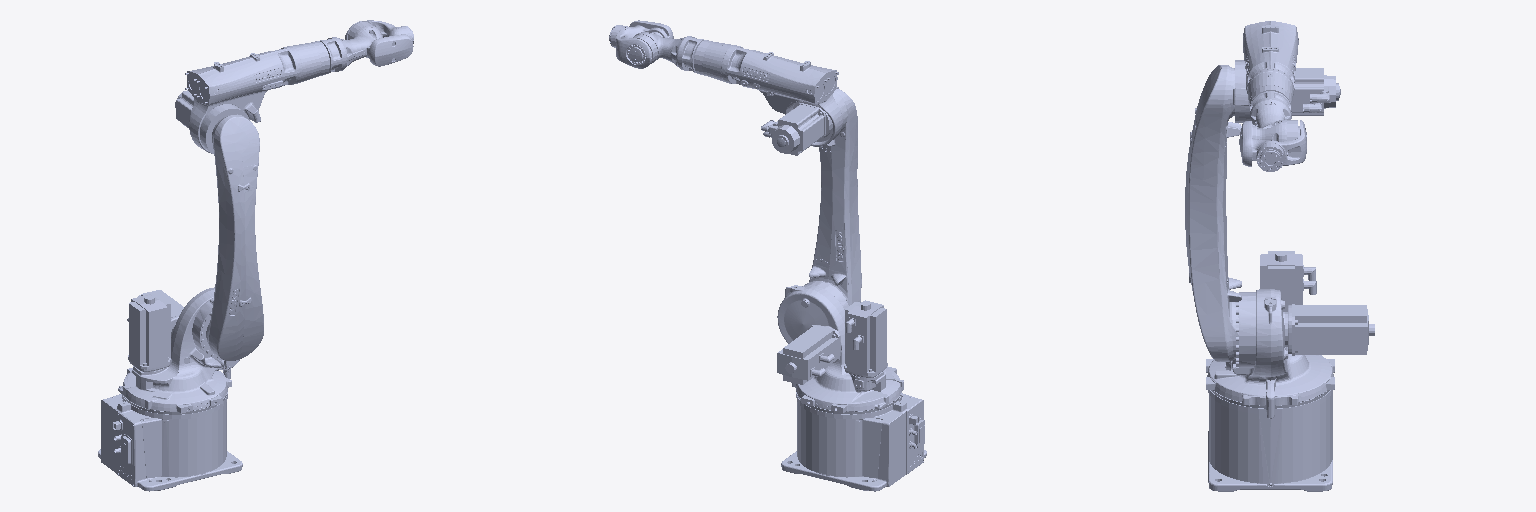
robot.urdf — kr16:
<?xml version="1.0" encoding="utf-8"?>
<!-- This URDF was automatically created by SolidWorks to URDF Exporter! Originally created by [author] ([email redacted]) 
     Commit Version: 1.6.0-4-g7f85cfe  Build Version: 1.6.7995.38578
     For more information, please see http://wiki.ros.org/sw_urdf_exporter -->
<robot
  name="kr16">
  <link
    name="base_link">
    <inertial>
      <origin
        xyz="-0.025986 -0.00037045 0.13263"
        rpy="0 0 0" />
      <mass
        value="32.904" />
      <inertia
        ixx="0.47889"
        ixy="-0.0023265"
        ixz="-0.0030877"
        iyy="0.60693"
        iyz="3.7337E-05"
        izz="0.69981" />
    </inertial>
    <visual>
      <origin
        xyz="0 0 0"
        rpy="0 0 0" />
      <geometry>
        <mesh
          filename="package://kr16/meshes/base_link.STL" />
      </geometry>
      <material
        name="">
        <color
          rgba="0.79216 0.81961 0.93333 1" />
      </material>
    </visual>
    <collision>
      <origin
        xyz="0 0 0"
        rpy="0 0 0" />
      <geometry>
        <mesh
          filename="package://kr16/meshes/base_link.STL" />
      </geometry>
    </collision>
  </link>
  <link
    name="link1">
    <inertial>
      <origin
        xyz="0.041391 0.024421 0.42935"
        rpy="0 0 0" />
      <mass
        value="22.424" />
      <inertia
        ixx="0.27596"
        ixy="0.017069"
        ixz="-0.10806"
        iyy="0.37516"
        iyz="0.016676"
        izz="0.2592" />
    </inertial>
    <visual>
      <origin
        xyz="0 0 0"
        rpy="0 0 0" />
      <geometry>
        <mesh
          filename="package://kr16/meshes/link1.STL" />
      </geometry>
      <material
        name="">
        <color
          rgba="0.79216 0.81961 0.93333 1" />
      </material>
    </visual>
    <collision>
      <origin
        xyz="0 0 0"
        rpy="0 0 0" />
      <geometry>
        <mesh
          filename="package://kr16/meshes/link1.STL" />
      </geometry>
    </collision>
  </link>
  <joint
    name="joint1"
    type="revolute">
    <origin
      xyz="0 0 0"
      rpy="0 0 0" />
    <parent
      link="base_link" />
    <child
      link="link1" />
    <axis
      xyz="0 0 1" />
    <limit
      lower="-3.14"
      upper="3.14"
      effort="100"
      velocity="1" />
  </joint>
  <link
    name="link2">
    <inertial>
      <origin
        xyz="-0.0045926 -0.41856 -0.064525"
        rpy="0 0 0" />
      <mass
        value="15.502" />
      <inertia
        ixx="0.98125"
        ixy="-0.0049335"
        ixz="-0.0013945"
        iyy="0.048296"
        iyz="-0.012652"
        izz="0.98046" />
    </inertial>
    <visual>
      <origin
        xyz="0 0 0"
        rpy="0 0 0" />
      <geometry>
        <mesh
          filename="package://kr16/meshes/link2.STL" />
      </geometry>
      <material
        name="">
        <color
          rgba="0.79216 0.81961 0.93333 1" />
      </material>
    </visual>
    <collision>
      <origin
        xyz="0 0 0"
        rpy="0 0 0" />
      <geometry>
        <mesh
          filename="package://kr16/meshes/link2.STL" />
      </geometry>
    </collision>
  </link>
  <joint
    name="joint2"
    type="revolute">
    <origin
      xyz="0.16 -0.0623 0.52"
      rpy="-1.5708 0 0" />
    <parent
      link="link1" />
    <child
      link="link2" />
    <axis
      xyz="0 0 -1" />
    <limit
      lower="-3.14"
      upper="3.14"
      effort="100"
      velocity="1" />
  </joint>
  <link
    name="link3">
    <inertial>
      <origin
        xyz="0.077201 -0.095355 0.063604"
        rpy="0 0 0" />
      <mass
        value="8.8526" />
      <inertia
        ixx="0.070577"
        ixy="0.030535"
        ixz="-0.01107"
        iyy="0.10659"
        iyz="0.015164"
        izz="0.14451" />
    </inertial>
    <visual>
      <origin
        xyz="0 0 0"
        rpy="0 0 0" />
      <geometry>
        <mesh
          filename="package://kr16/meshes/link3.STL" />
      </geometry>
      <material
        name="">
        <color
          rgba="0.79216 0.81961 0.93333 1" />
      </material>
    </visual>
    <collision>
      <origin
        xyz="0 0 0"
        rpy="0 0 0" />
      <geometry>
        <mesh
          filename="package://kr16/meshes/link3.STL" />
      </geometry>
    </collision>
  </link>
  <joint
    name="joint3"
    type="revolute">
    <origin
      xyz="0 -0.78 -0.020238"
      rpy="0 0 0" />
    <parent
      link="link2" />
    <child
      link="link3" />
    <axis
      xyz="0 0 -1" />
    <limit
      lower="-3.14"
      upper="3.14"
      effort="100"
      velocity="1" />
  </joint>
  <link
    name="link4">
    <inertial>
      <origin
        xyz="7.3544E-06 0.0082633 0.060074"
        rpy="0 0 0" />
      <mass
        value="4.194" />
      <inertia
        ixx="0.066019"
        ixy="-1.2008E-07"
        ixz="-1.8223E-06"
        iyy="0.064701"
        iyz="-0.0058911"
        izz="0.0084937" />
    </inertial>
    <visual>
      <origin
        xyz="0 0 0"
        rpy="0 0 0" />
      <geometry>
        <mesh
          filename="package://kr16/meshes/link4.STL" />
      </geometry>
      <material
        name="">
        <color
          rgba="0.79216 0.81961 0.93333 1" />
      </material>
    </visual>
    <collision>
      <origin
        xyz="0 0 0"
        rpy="0 0 0" />
      <geometry>
        <mesh
          filename="package://kr16/meshes/link4.STL" />
      </geometry>
    </collision>
  </link>
  <joint
    name="joint4"
    type="revolute">
    <origin
      xyz="0.4245 -0.15 0.082538"
      rpy="1.5708 0 1.5708" />
    <parent
      link="link3" />
    <child
      link="link4" />
    <axis
      xyz="0 0 -1" />
    <limit
      lower="-3.14"
      upper="3.14"
      effort="100"
      velocity="1" />
  </joint>
  <link
    name="link5">
    <inertial>
      <origin
        xyz="0.057376 1.0435E-06 0.07906"
        rpy="0 0 0" />
      <mass
        value="1.32" />
      <inertia
        ixx="0.0055245"
        ixy="6.9011E-07"
        ixz="0.00041002"
        iyy="0.008235"
        iyz="-2.2689E-07"
        izz="0.0041395" />
    </inertial>
    <visual>
      <origin
        xyz="0 0 0"
        rpy="0 0 0" />
      <geometry>
        <mesh
          filename="package://kr16/meshes/link5.STL" />
      </geometry>
      <material
        name="">
        <color
          rgba="0.79216 0.81961 0.93333 1" />
      </material>
    </visual>
    <collision>
      <origin
        xyz="0 0 0"
        rpy="0 0 0" />
      <geometry>
        <mesh
          filename="package://kr16/meshes/link5.STL" />
      </geometry>
    </collision>
  </link>
  <joint
    name="joint5"
    type="revolute">
    <origin
      xyz="0 0.0653 0.2305"
      rpy="1.5708 -1.5708 0" />
    <parent
      link="link4" />
    <child
      link="link5" />
    <axis
      xyz="0 0 1" />
    <limit
      lower="-3.14"
      upper="3.14"
      effort="100"
      velocity="1" />
  </joint>
  <link
    name="link6">
    <inertial>
      <origin
        xyz="-8.2533E-05 -7.1722E-18 0.019579"
        rpy="0 0 0" />
      <mass
        value="0.025694" />
      <inertia
        ixx="6.9209E-06"
        ixy="7.5882E-22"
        ixz="-3.4546E-09"
        iyy="6.9738E-06"
        iyz="2.6969E-22"
        izz="1.3309E-05" />
    </inertial>
    <visual>
      <origin
        xyz="0 0 0"
        rpy="0 0 0" />
      <geometry>
        <mesh
          filename="package://kr16/meshes/link6.STL" />
      </geometry>
      <material
        name="">
        <color
          rgba="0.79216 0.81961 0.93333 1" />
      </material>
    </visual>
    <collision>
      <origin
        xyz="0 0 0"
        rpy="0 0 0" />
      <geometry>
        <mesh
          filename="package://kr16/meshes/link6.STL" />
      </geometry>
    </collision>
  </link>
  <joint
    name="joint6"
    type="revolute">
    <origin
      xyz="0.12755 0 0.0653"
      rpy="-1.5708 0 -1.5708" />
    <parent
      link="link5" />
    <child
      link="link6" />
    <axis
      xyz="0 0 -1" />
    <limit
      lower="-3.14"
      upper="3.14"
      effort="100"
      velocity="1" />
  </joint>
</robot>

--- What the picture shows (computed from the rendered views, not written in the file) ---
3 views of the same robot in one strip: view 1: azimuth 30°, elevation 25°; view 2: azimuth 150°, elevation 25°; view 3: azimuth 270°, elevation 25° (orthographic).
Robot: kr16 — 7 links, 6 joints (6 revolute); root link base_link; default pose: every joint at zero.
Links seen in each view (by area): view 1: link2, link1, base_link, link3, link4, link5; view 2: link1, base_link, link2, link3, link4, link5; view 3: link1, link2, base_link, link3, link4, link5.
Boxes of the visible links, <box> form: link2: <box>175,90,263,369</box>; link1: <box>118,287,231,413</box>; base_link: <box>98,392,242,491</box>; link3: <box>185,47,298,153</box>; link4: <box>287,22,382,83</box>; link5: <box>345,20,413,66</box>; link1: <box>777,281,903,412</box>; base_link: <box>781,392,926,491</box>; link2: <box>761,89,861,305</box>; link3: <box>725,46,847,147</box>; link4: <box>633,32,736,83</box>; link5: <box>610,20,673,68</box>; link1: <box>1206,251,1374,418</box>; link2: <box>1185,65,1340,370</box>; base_link: <box>1208,390,1332,491</box>; link3: <box>1233,21,1298,122</box>; link4: <box>1247,69,1299,141</box>; link5: <box>1239,120,1306,171</box>.
Bounding box of the posed robot: 1.23 × 0.5646 × 1.52 m (x, y, z).
7 mesh visuals loaded from 7 distinct referenced files (7 binary STL).
